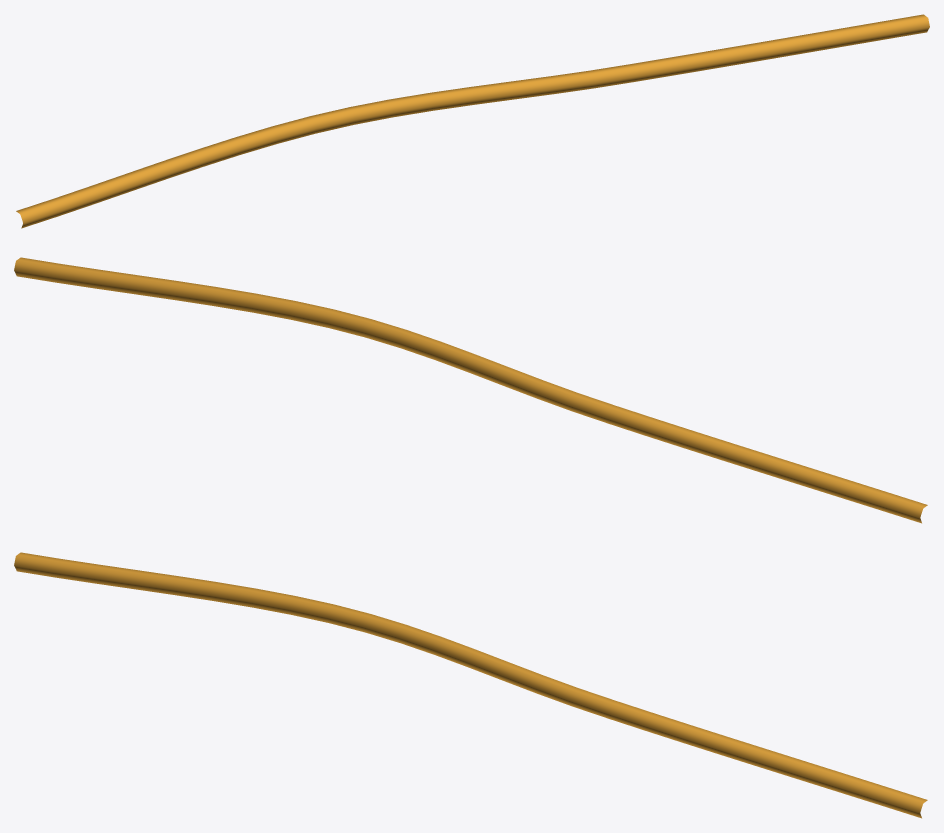
The model's file is power-cable.glb.
The picture shows the model from 3 angles, top to bottom: view 1: azimuth 30°, elevation 25°; view 2: azimuth 150°, elevation 25°; view 3: azimuth 330°, elevation 25°; orthographic projection. The views are drawn at different scales.
Bounding box in the file's own units: 2 × 0.0869 × 0.1523.
